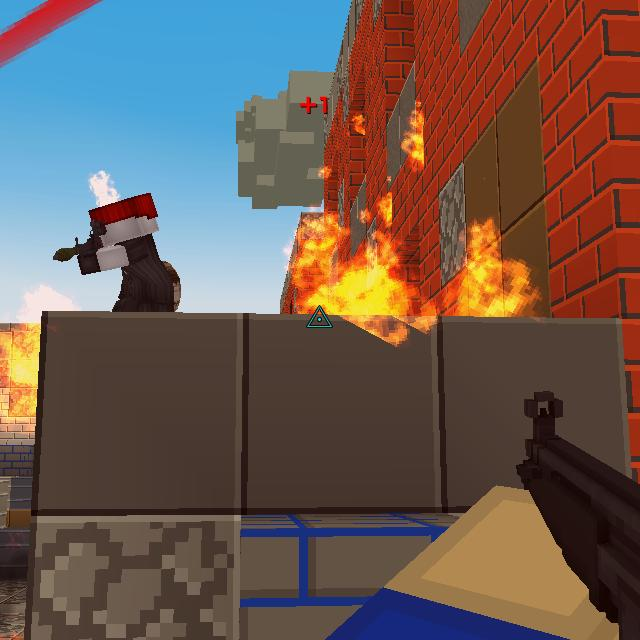enemy: (76, 189, 182, 315)
